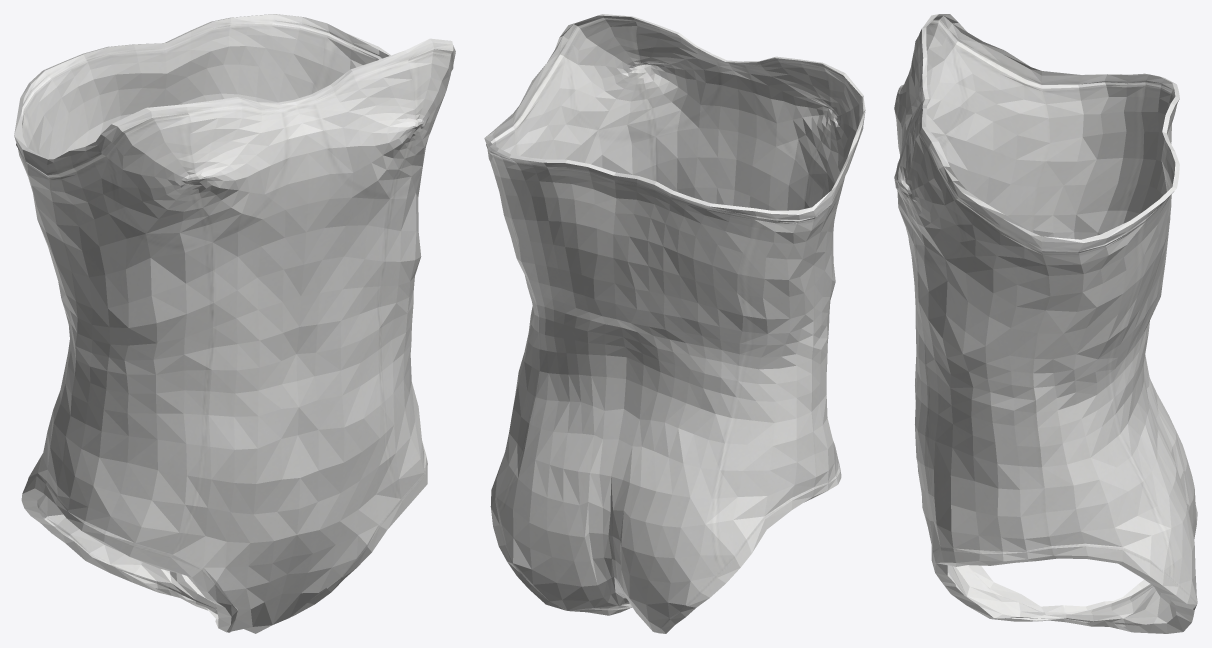
The model's file is mhw_punkduck_female_strapless_bodysuit.glb.
3 views of the same model, side by side, from view 1: azimuth 30°, elevation 25°; view 2: azimuth 150°, elevation 25°; view 3: azimuth 270°, elevation 25° (orthographic). The views are drawn at different scales.
Parts seen in each view (by area): view 1: mhw_punkduck_female_strapless_bodysuit; view 2: mhw_punkduck_female_strapless_bodysuit; view 3: mhw_punkduck_female_strapless_bodysuit.
Part boxes in pixels (box(x1,y1,x2,y2)): mhw_punkduck_female_strapless_bodysuit: box(14, 14, 455, 633); mhw_punkduck_female_strapless_bodysuit: box(484, 14, 865, 633); mhw_punkduck_female_strapless_bodysuit: box(894, 14, 1197, 633).
Size of the model in its own units: 0.3485 by 0.5283 by 0.2666.
1 material, 1 textured.
